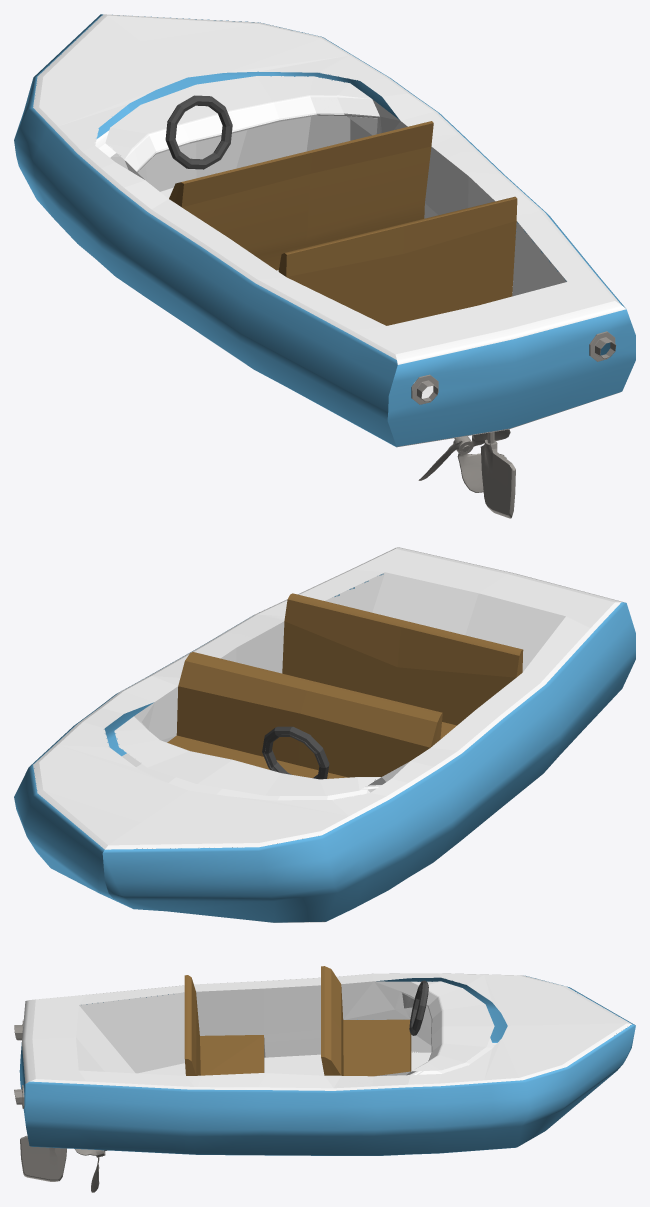
File: boat_model.fbx
3 views of the same model, one above another, from view 1: azimuth 30°, elevation 25°; view 2: azimuth 150°, elevation 25°; view 3: azimuth 270°, elevation 25° (orthographic). The views are drawn at different scales.
Visible parts, largest first — view 1: boat_hull, boat_rudder, boat_steeringWheel, boat_propeller; view 2: boat_hull, boat_steeringWheel; view 3: boat_hull, boat_rudder, boat_steeringWheel, boat_propeller.
Boxes of the visible parts, x1=… form: boat_hull: x1=14, y1=14, x2=635, y2=447; boat_rudder: x1=480, y1=432, x2=515, y2=518; boat_steeringWheel: x1=165, y1=95, x2=232, y2=169; boat_propeller: x1=418, y1=429, x2=510, y2=492; boat_hull: x1=14, y1=547, x2=635, y2=922; boat_steeringWheel: x1=262, y1=726, x2=329, y2=779; boat_hull: x1=14, y1=966, x2=635, y2=1155; boat_rudder: x1=20, y1=1135, x2=66, y2=1181; boat_steeringWheel: x1=409, y1=980, x2=428, y2=1035; boat_propeller: x1=75, y1=1149, x2=107, y2=1192.
Size of the model in its own units: 125 by 93.72 by 258.
1 material, 1 textured.
